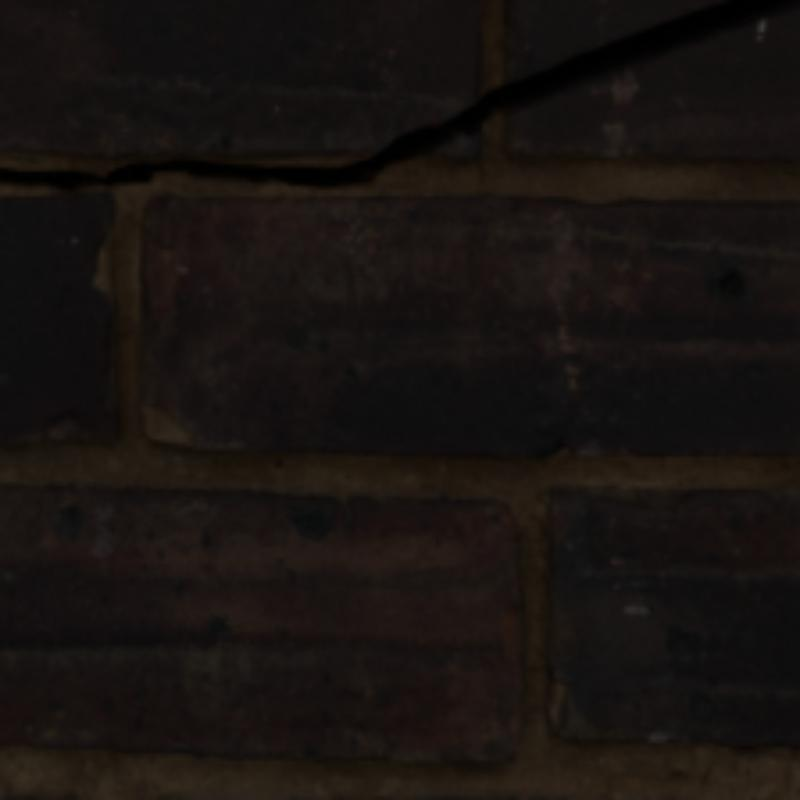pothole: (0, 0, 796, 196)
